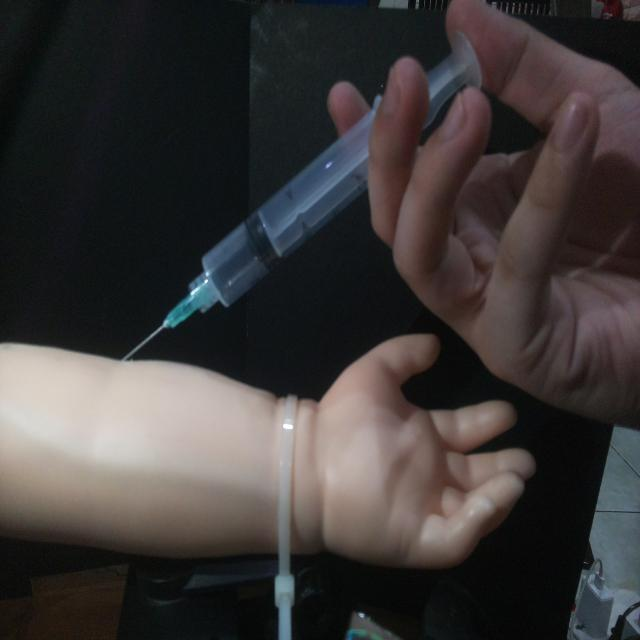30deg: (116, 28, 486, 364)
